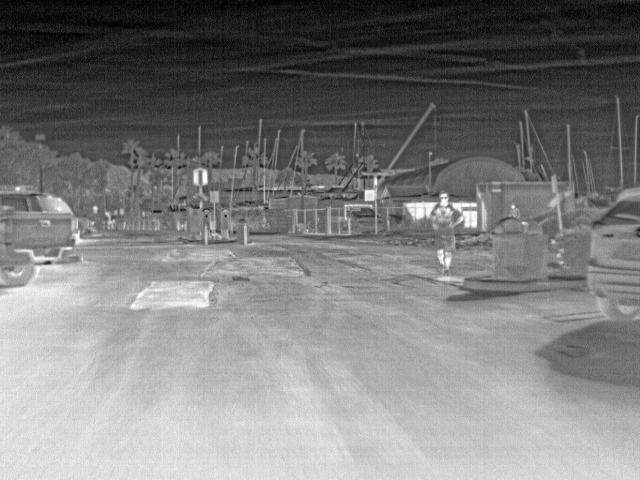car: (586, 189, 639, 322), (0, 212, 78, 290), (0, 184, 75, 213)
person: (429, 190, 467, 278), (508, 202, 521, 218)
